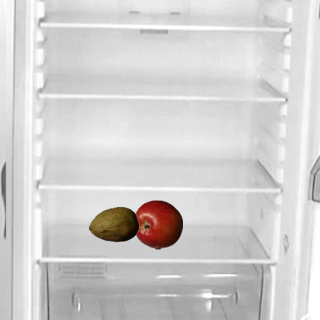Apple Braeburn: (132, 199, 182, 249)
Papaya: (88, 199, 138, 249)
